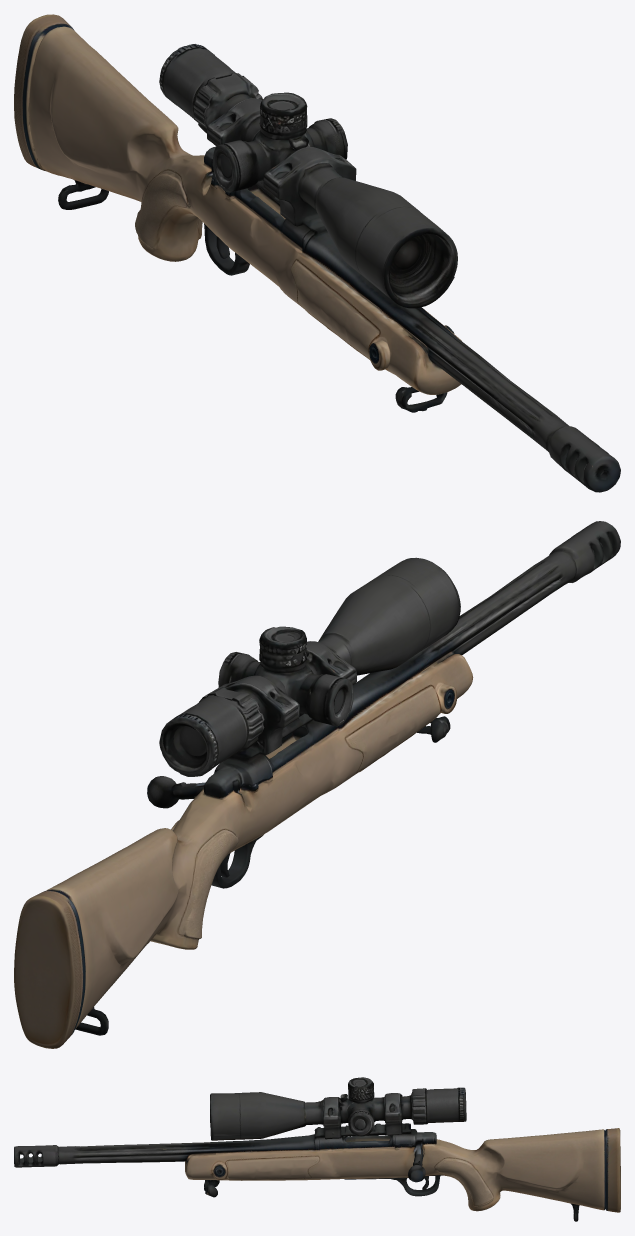
Rendered from rifle_talon.glb.
The picture shows the model from 3 angles, top to bottom: view 1: azimuth 30°, elevation 25°; view 2: azimuth 150°, elevation 25°; view 3: azimuth 270°, elevation 25°; orthographic projection. The views are drawn at different scales.
Visible parts, largest first — view 1: tripo_node_1d609cf1-cc1d-424b-9cc7-f2ba7655f527; view 2: tripo_node_1d609cf1-cc1d-424b-9cc7-f2ba7655f527; view 3: tripo_node_1d609cf1-cc1d-424b-9cc7-f2ba7655f527.
Part boxes in pixels (x1=…): tripo_node_1d609cf1-cc1d-424b-9cc7-f2ba7655f527: x1=14, y1=14, x2=620, y2=492; tripo_node_1d609cf1-cc1d-424b-9cc7-f2ba7655f527: x1=14, y1=521, x2=620, y2=1048; tripo_node_1d609cf1-cc1d-424b-9cc7-f2ba7655f527: x1=14, y1=1077, x2=620, y2=1221.
Bounding box in the file's own units: 0.1476 × 0.2465 × 1.
1 material, 1 textured.
